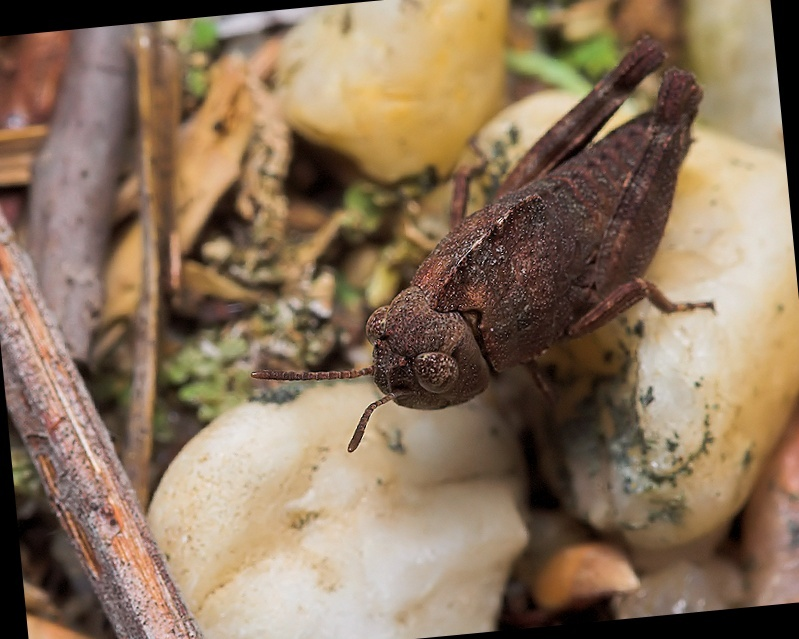Brown_hopper: (275, 38, 729, 466)
